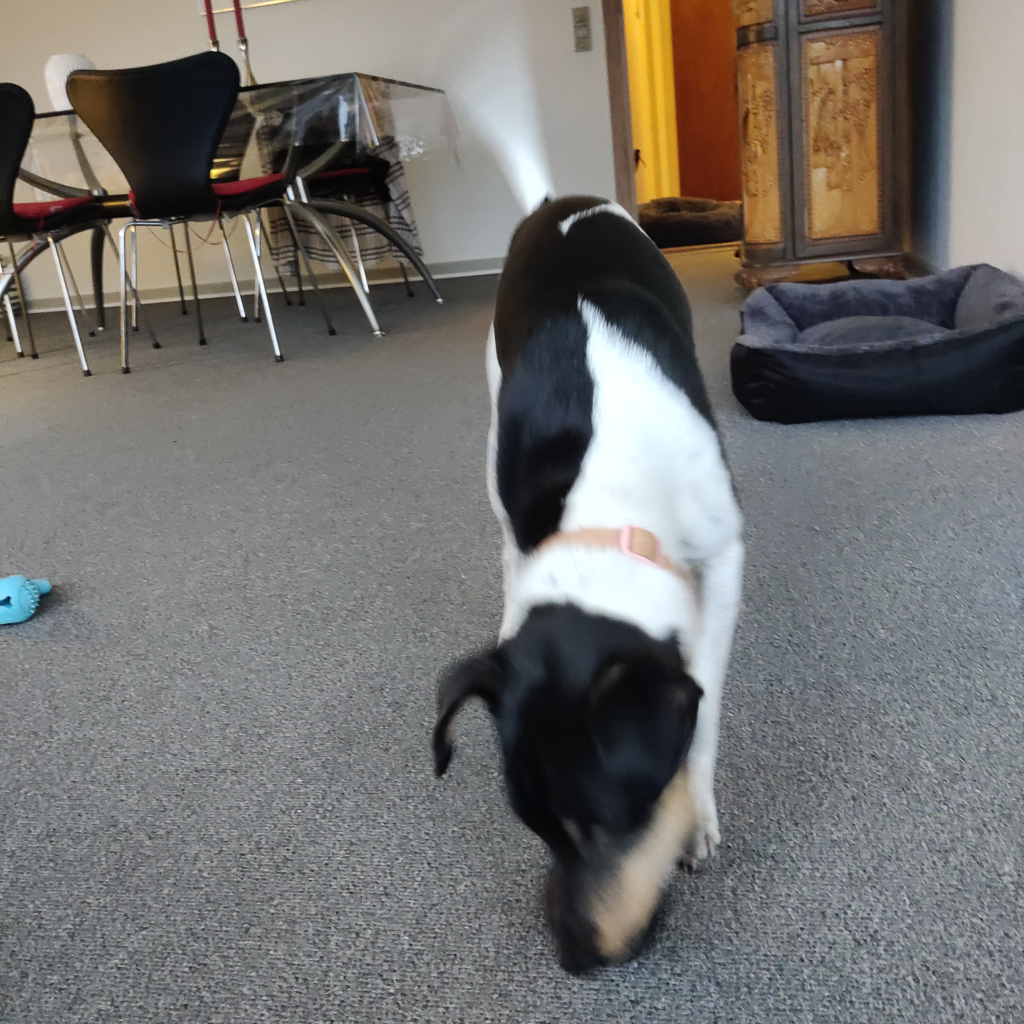Dog: (387, 0, 796, 1005)
